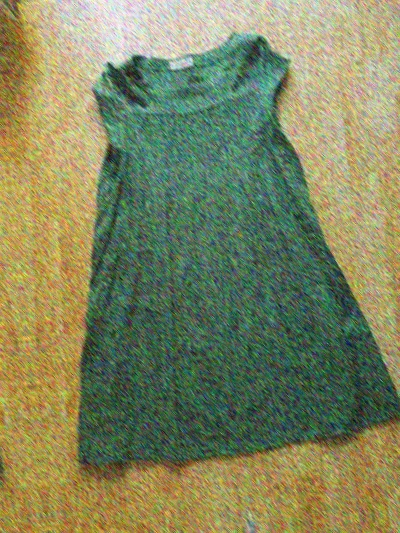Dress: (21, 0, 400, 479), (0, 32, 12, 524)
